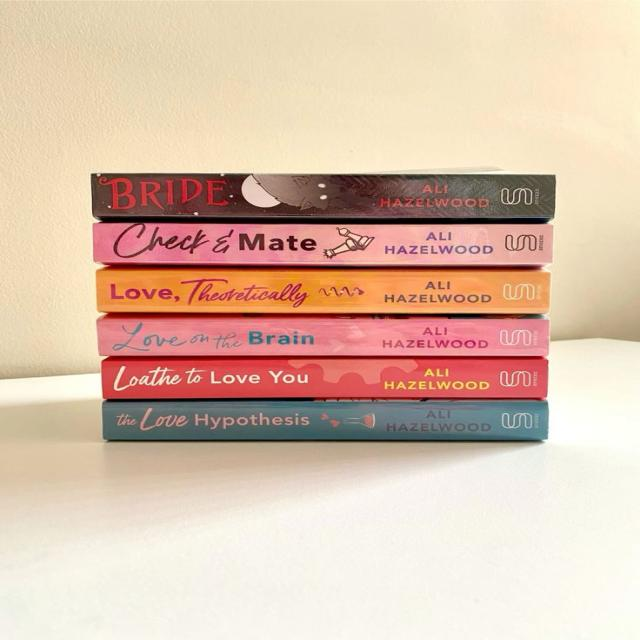book: (93, 174, 554, 223), (97, 267, 550, 314), (93, 223, 553, 267), (97, 314, 550, 356), (102, 358, 547, 399), (103, 400, 548, 441)
